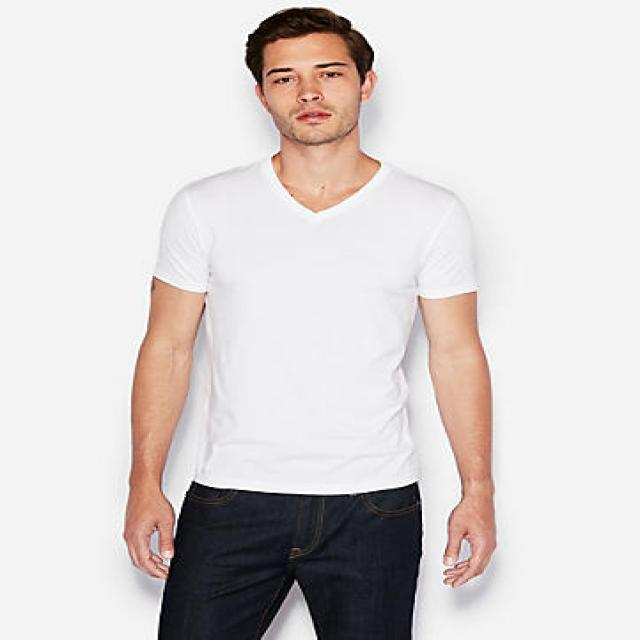human: (120, 4, 515, 640)
